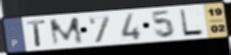4: (120, 12, 143, 41)
5: (149, 9, 176, 39)
7: (88, 14, 112, 44)
L: (178, 8, 206, 37)
M: (48, 16, 86, 47)
T: (25, 19, 47, 47)
